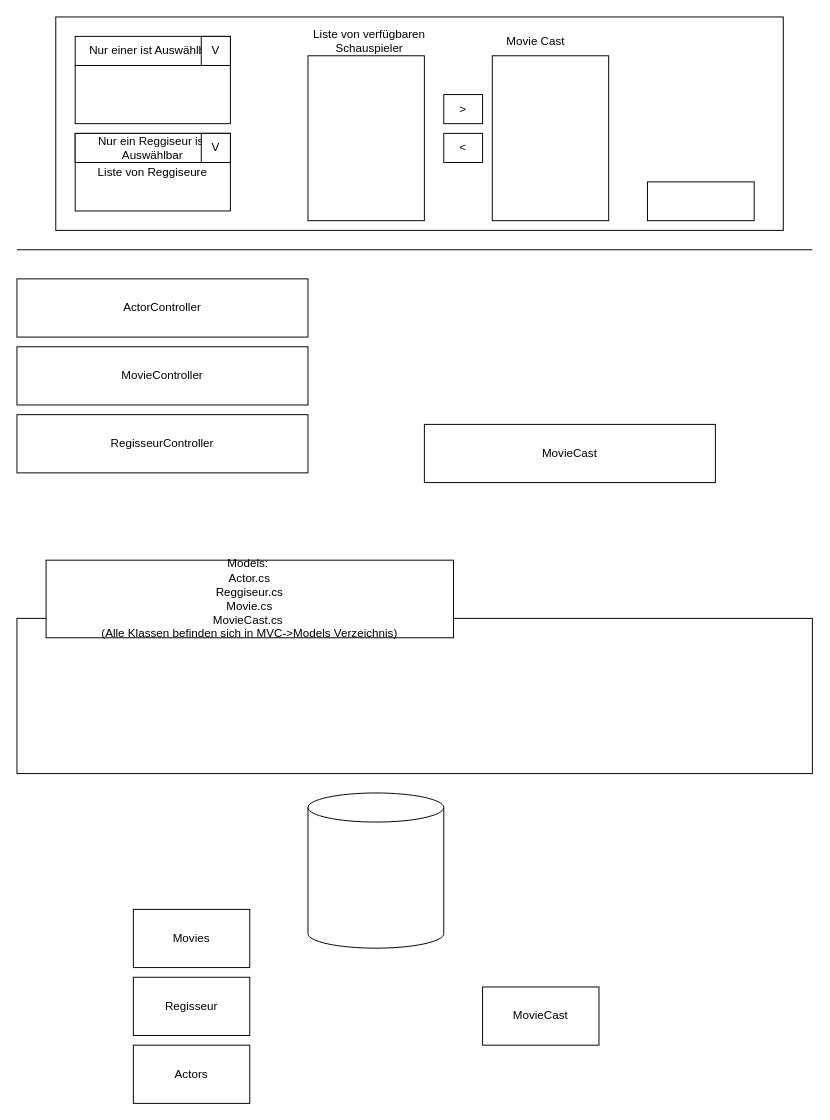
The diagram is 830 pixels wide and 1120 high, and some of its shapes have lost their labels. The shapes that lost their labels are listed below. From the top down, each one's centre as x and y in pixels, then its label:
At (x=152, y=94): "- Liste von Movies".
At (x=700, y=201): "Speicher Movie Cast".
At (x=414, y=695): "EFCore - Models (MVC->Models-verzeichnis)".
At (x=375, y=870): "Database".
